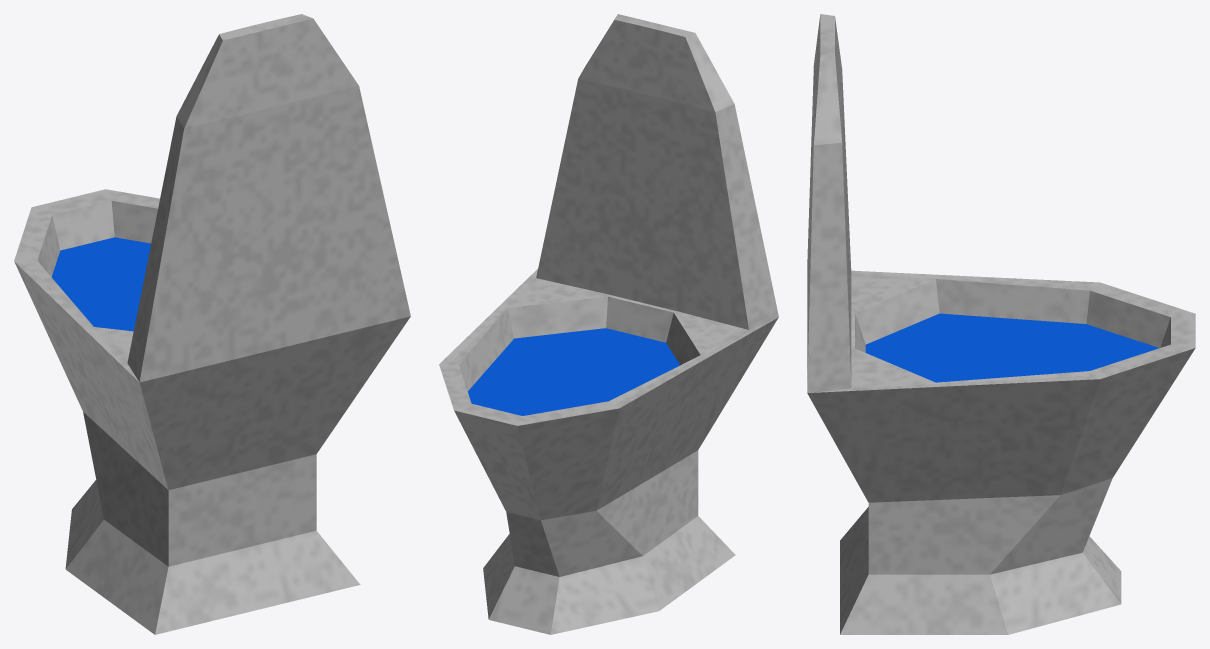
Rendered from Toilet.fbx.
3 views of the same model, side by side, from view 1: azimuth 30°, elevation 25°; view 2: azimuth 150°, elevation 25°; view 3: azimuth 270°, elevation 25° (orthographic). The views are drawn at different scales.
Visible parts, largest first — view 1: Toliet; view 2: Toliet; view 3: Toliet.
Part boxes in pixels (box(x1,y1,x2,y2)): Toliet: box(14, 14, 410, 634); Toliet: box(439, 14, 778, 634); Toliet: box(807, 14, 1195, 634).
Size of the model in its own units: 200 by 414 by 264.
